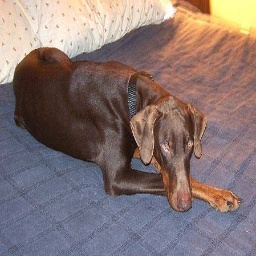dog: (12, 45, 240, 211)
